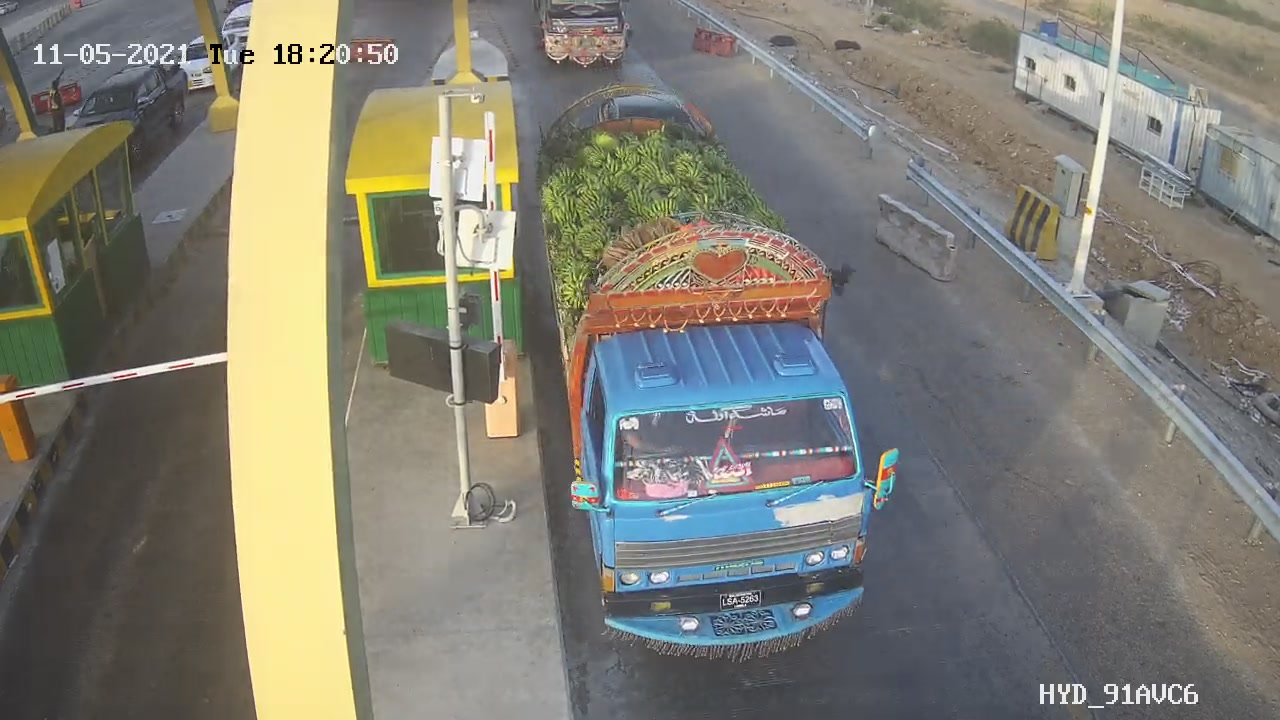F5: (530, 103, 927, 661)
